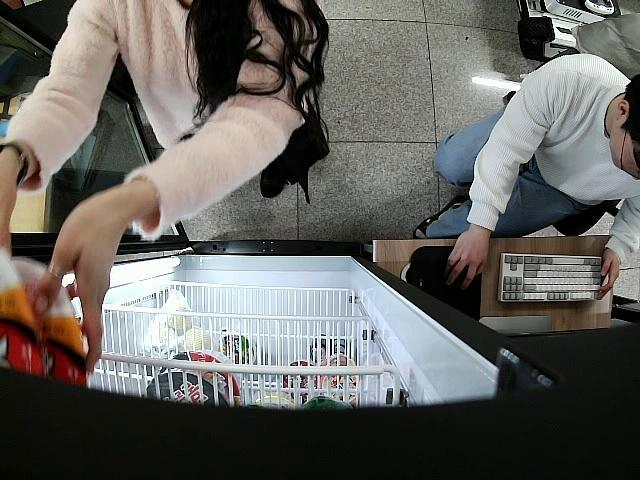10_wangTtukkeong: (0, 244, 89, 390)
